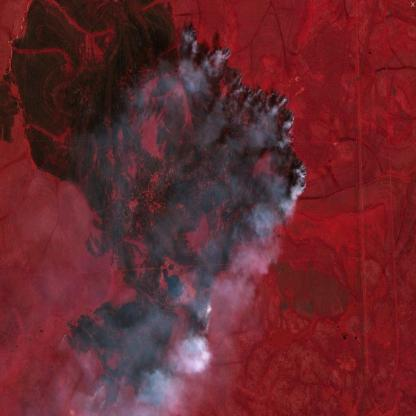fire: (176, 16, 310, 220), (183, 289, 221, 356)
